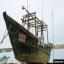fishing boat: (2, 0, 54, 64)
